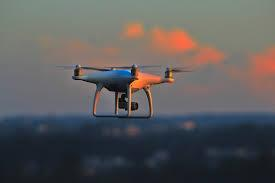drone_other: (55, 62, 194, 120)
